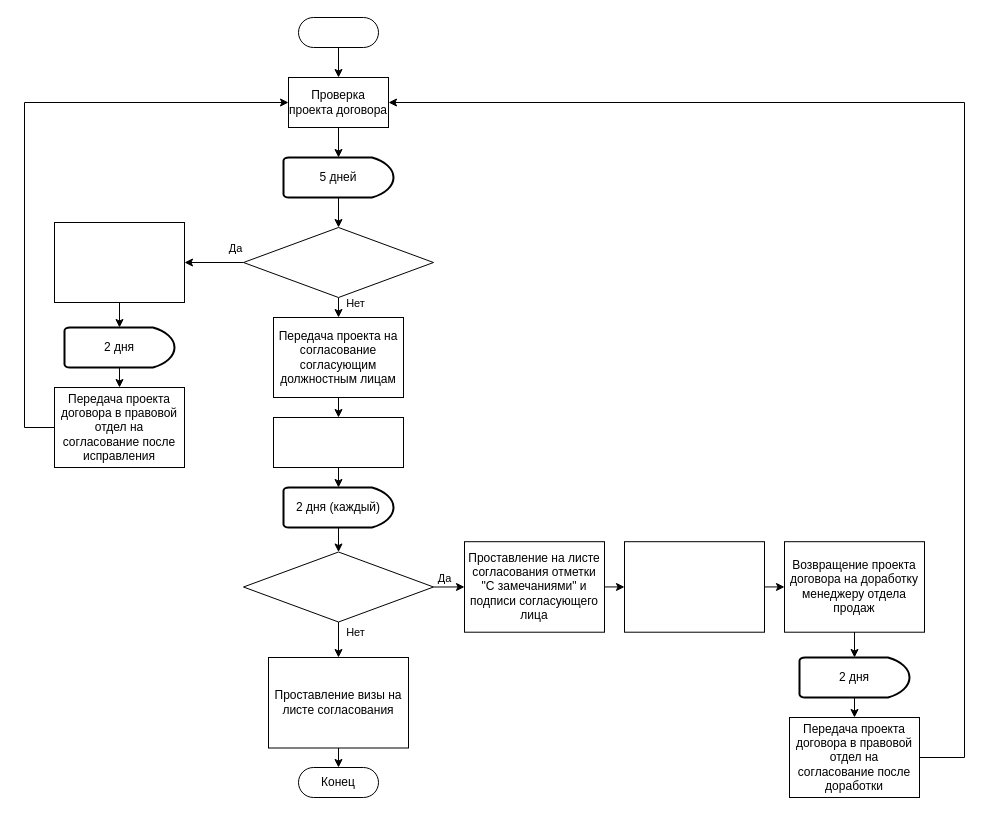
The diagram is 990 pixels wide and 815 high, and some of its shapes have lost their labels. The shapes that lost their labels are listed below. From the top down, each one's box as (x1, y1, x2, y2) in pixels, then its label:
(298, 16, 378, 48): Начало
(54, 222, 184, 302): Возвращение проекта договора на исправление менеджеру отдела продаж
(242, 226, 434, 298): Опечатки или ошибки найдены?
(272, 416, 404, 468): Экспертиза проекта договора
(242, 551, 434, 622): Замечания возникли?
(624, 541, 764, 632): Изложение замечаний на листе замечаний в приложении к договору
